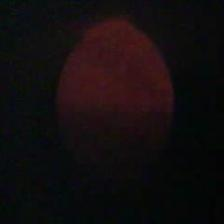fertile: (52, 12, 179, 188)
